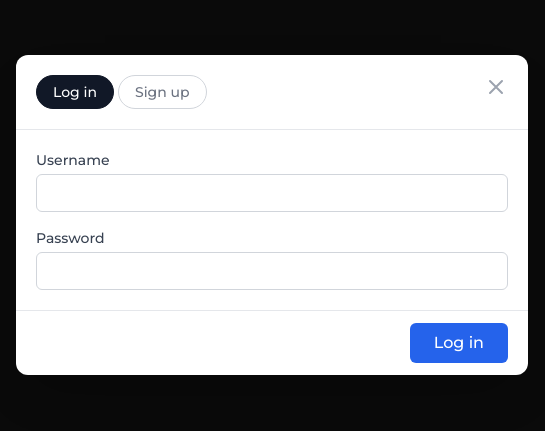
Test: AuthModal › toggling to signup shows the confirm-password field
Note: At this point only the header tab says "Sign up" (footer still says "Log in").
Click the button "Sign up". click: [162, 92]
box: x1=118 y1=75 x2=207 y2=109
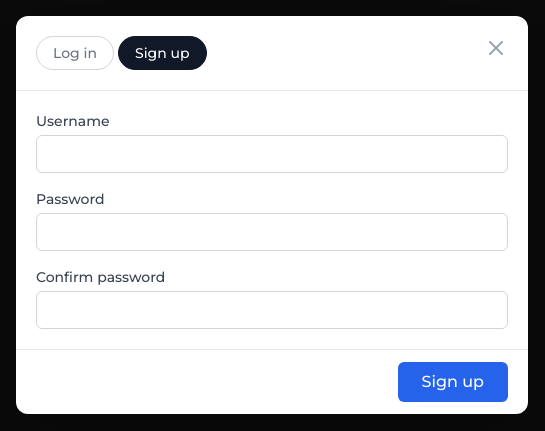
Expected: the password field labelled "Confirm password" is shown, x1=36 y1=291 x2=508 y2=329
Expected: the submit button reads "Sign up", x1=398 y1=362 x2=508 y2=402
